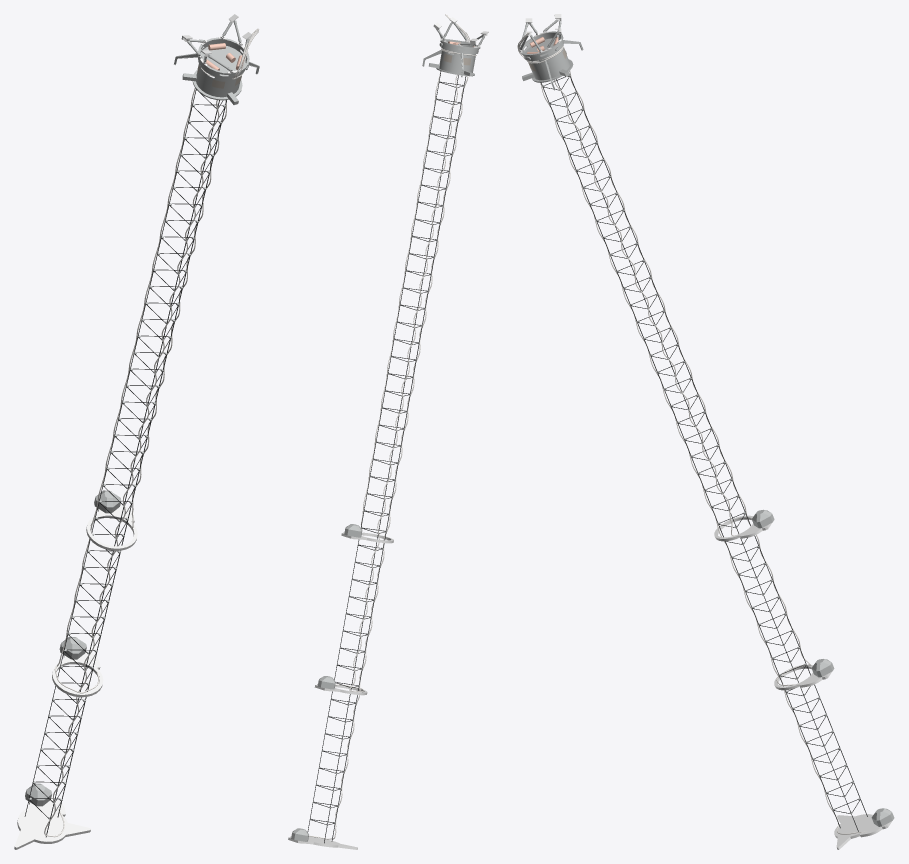
Rendered from magnemometer.glb.
3 views of the same model, side by side, from view 1: azimuth 30°, elevation 25°; view 2: azimuth 150°, elevation 25°; view 3: azimuth 270°, elevation 25° (orthographic). The views are drawn at different scales.
Parts seen in each view (by area): view 1: magnetometer; view 2: magnetometer; view 3: magnetometer.
Part boxes in pixels (x1,y1,x2,y2): magnetometer: (14,14,259,849); magnetometer: (288,14,488,849); magnetometer: (517,14,894,849).
Bounding box in the file's own units: 0.7463 × 8.42 × 3.53.
Materials: 1 (1 with a texture image).
